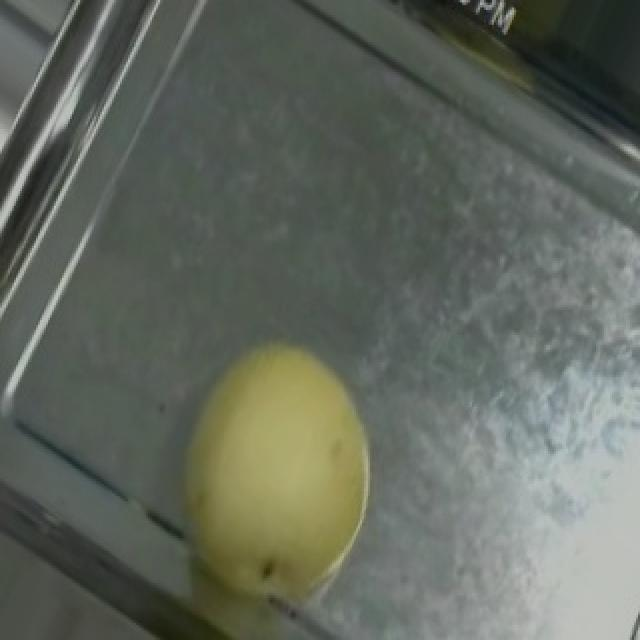Fruit: (132, 302, 418, 640)
